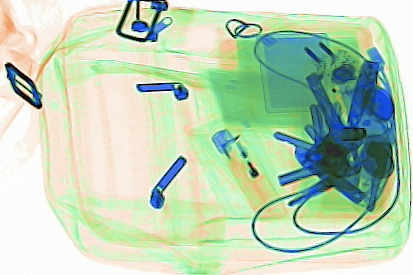lighter: (209, 125, 286, 221)
